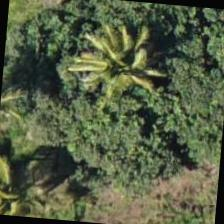Kelapa_Sawit: (76, 24, 174, 122)
